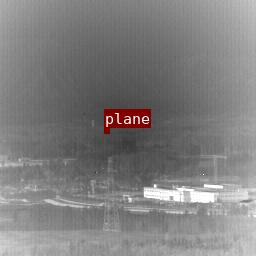plane: (104, 128, 109, 132)
